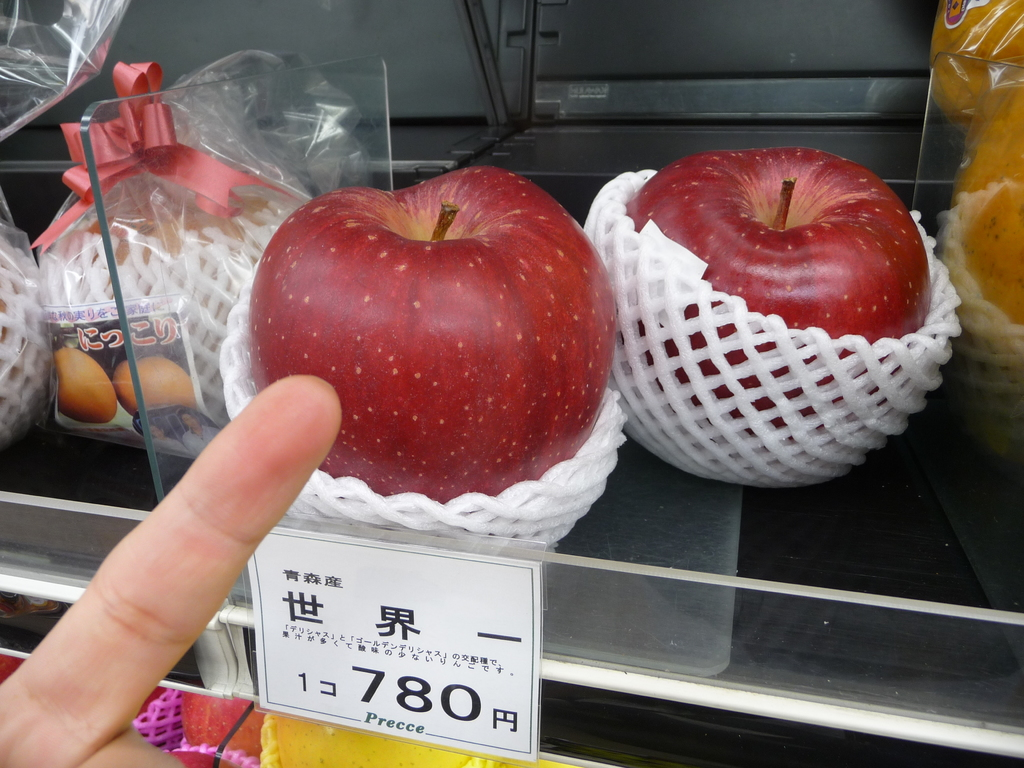Apple: (245, 159, 616, 500), (617, 142, 929, 436)
